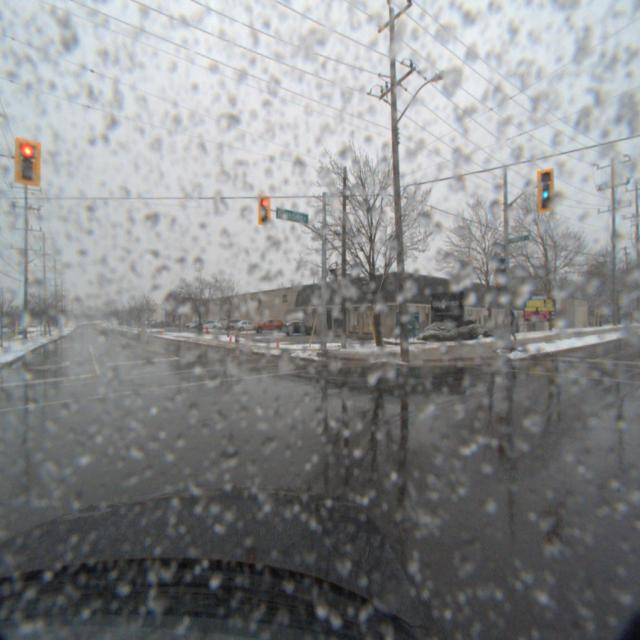Car: (276, 321, 314, 338), (247, 318, 281, 336), (228, 320, 258, 334)
